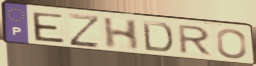D: (141, 19, 176, 54)
E: (30, 11, 67, 45)
H: (102, 17, 140, 52)
O: (215, 28, 248, 60)
R: (177, 24, 214, 57)
Z: (66, 12, 102, 49)
